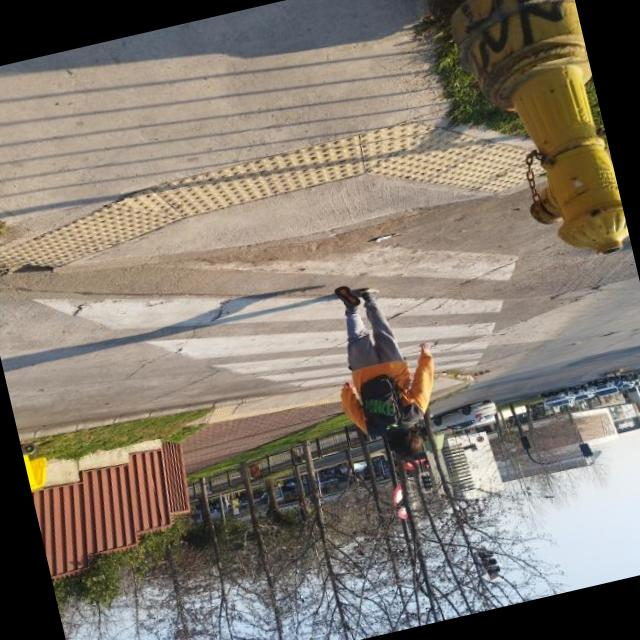person: (301, 254, 470, 496)
